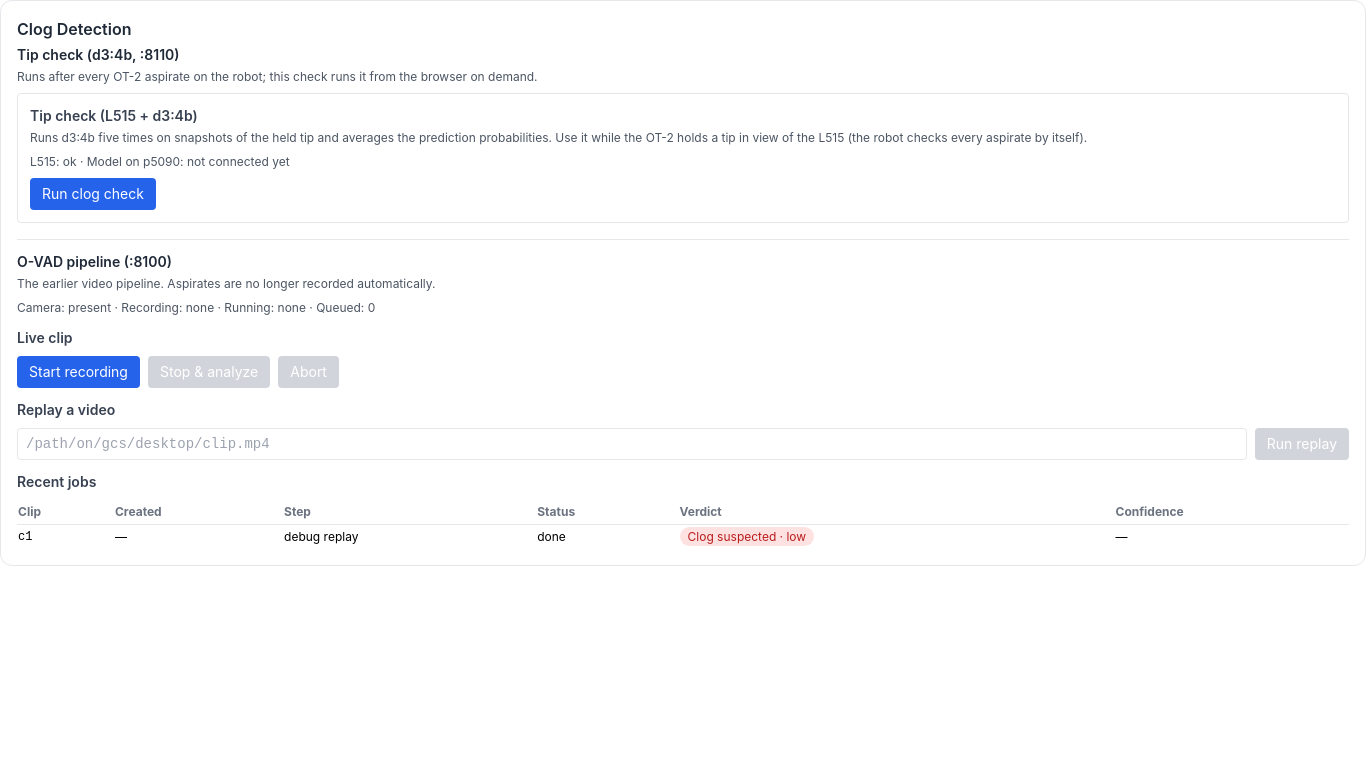
renders and polls /jobs
The width and height of the screenshot is (1366, 768).
Expected: the heading "Clog Detection" is shown, [17, 19, 131, 39]
Expected: the text "Clog suspected · low" is shown, [680, 527, 814, 546]
Click the text "c1" at (25, 537), box [17, 524, 114, 549]
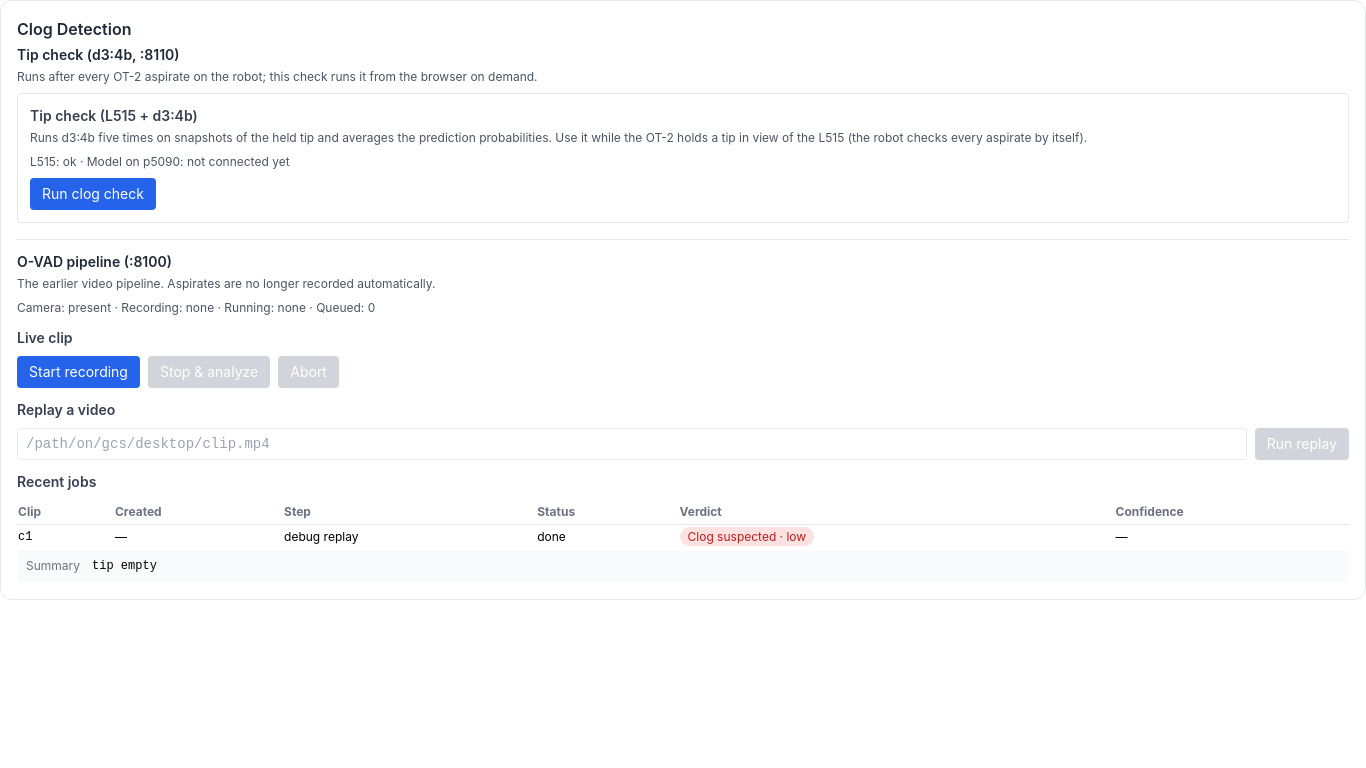
Now the text "tip empty" is shown, box [92, 559, 157, 573]
